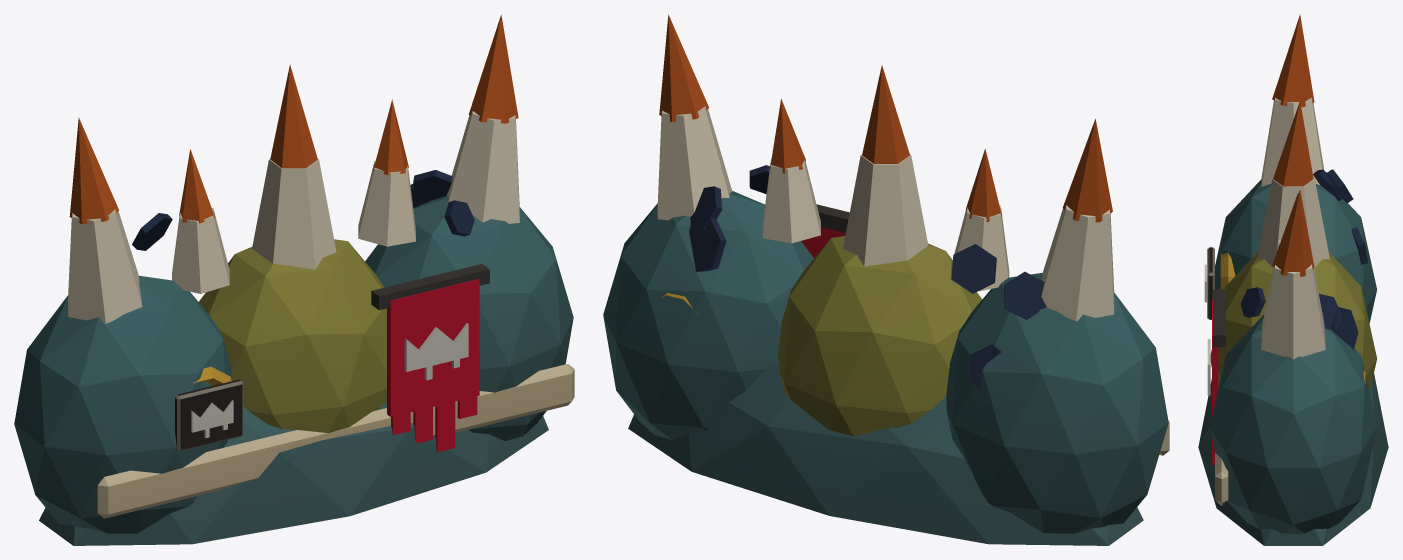
The model's file is rb_wall.glb.
The picture shows the model from 3 angles, left to right: view 1: azimuth 30°, elevation 25°; view 2: azimuth 150°, elevation 25°; view 3: azimuth 270°, elevation 25°; orthographic projection. The views are drawn at different scales.
Visible parts, largest first — view 1: rb_wall; view 2: rb_wall; view 3: rb_wall.
Boxes of the visible parts, x1,y1,x2,y2 form: rb_wall: (14, 15, 574, 545); rb_wall: (603, 14, 1169, 545); rb_wall: (1198, 14, 1388, 545).
Bounding box in the file's own units: 2.38 × 1.76 × 0.874.
